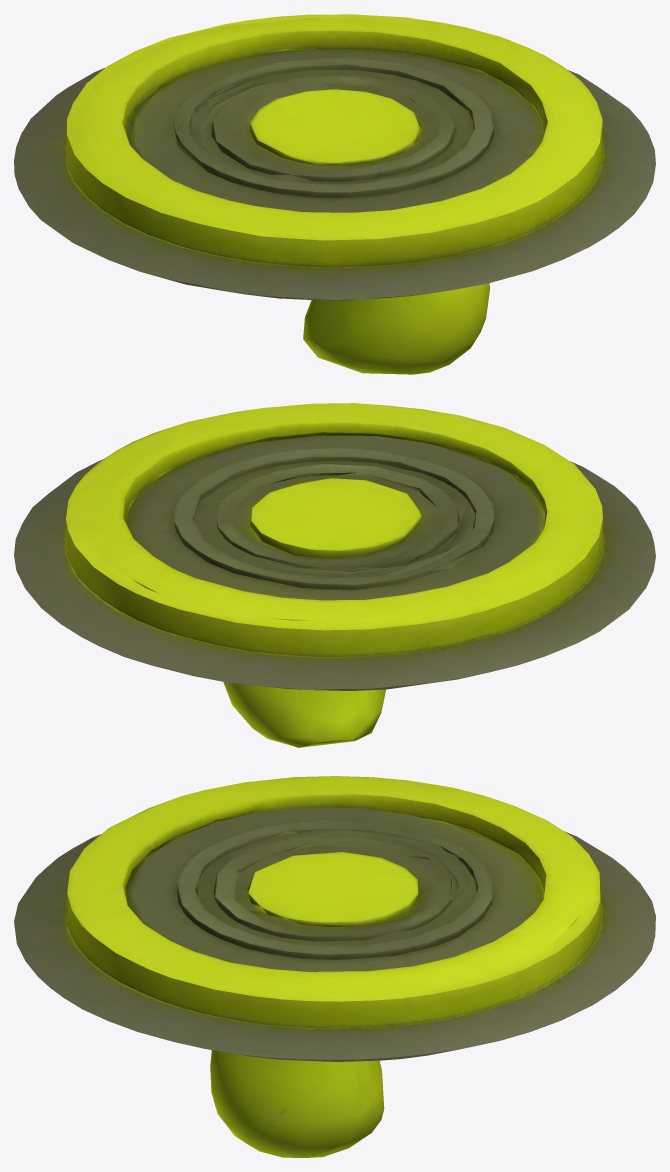
The model's file is springPad.glb.
3 views of the same model, one above another, from view 1: azimuth 30°, elevation 25°; view 2: azimuth 150°, elevation 25°; view 3: azimuth 270°, elevation 25° (orthographic).
Visible parts, largest first — view 1: model; view 2: model; view 3: model.
Part boxes in pixels (box(x1,y1,x2,y2)): model: box(14, 14, 655, 374); model: box(14, 403, 655, 747); model: box(14, 776, 655, 1157).
Bounding box in the file's own units: 1.89 × 0.7734 × 1.9.
Materials: 1 (1 with a texture image).
